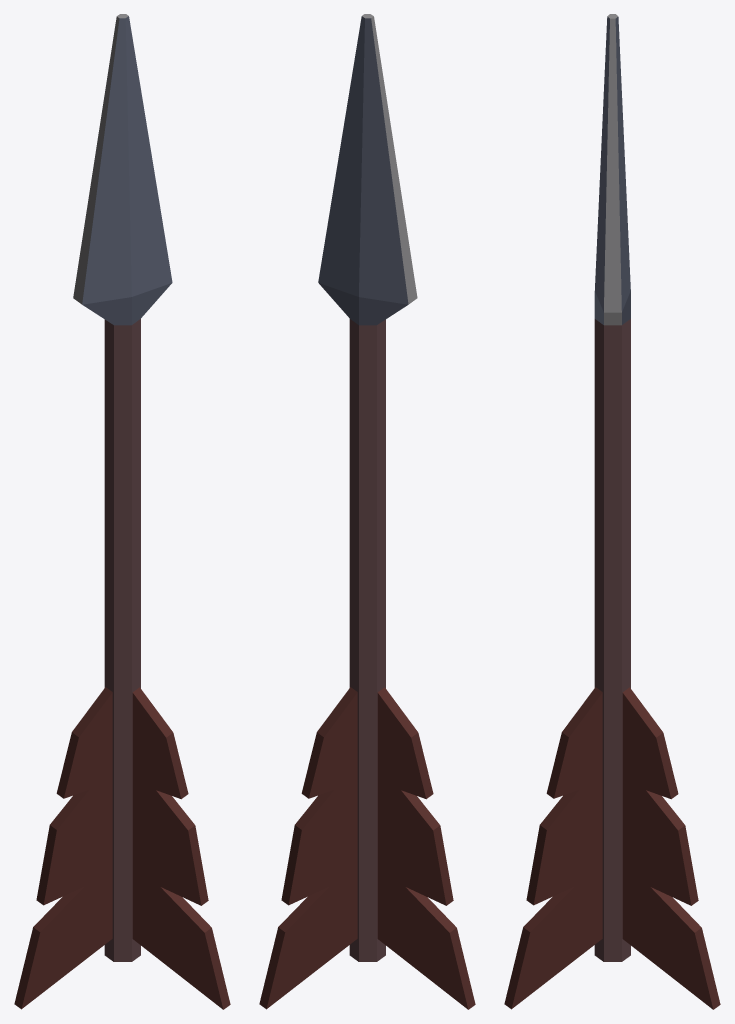
Rendered from dart.glb.
3 views of the same model, side by side, from view 1: azimuth 30°, elevation 25°; view 2: azimuth 150°, elevation 25°; view 3: azimuth 270°, elevation 25° (orthographic).
Visible parts, largest first — view 1: Dart; view 2: Dart; view 3: Dart.
Boxes of the visible parts, x1,y1,x2,y2 form: Dart: (14,14,230,1009); Dart: (259,14,475,1009); Dart: (504,14,720,1009).
Bounding box in the file's own units: 0.1269 × 0.7191 × 0.146.
